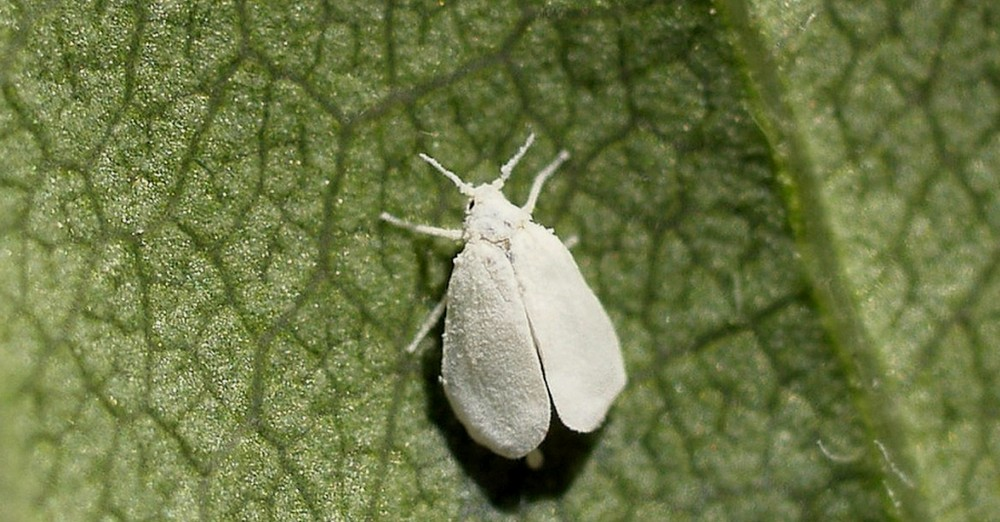Mosca Blanca: (373, 128, 657, 473)
